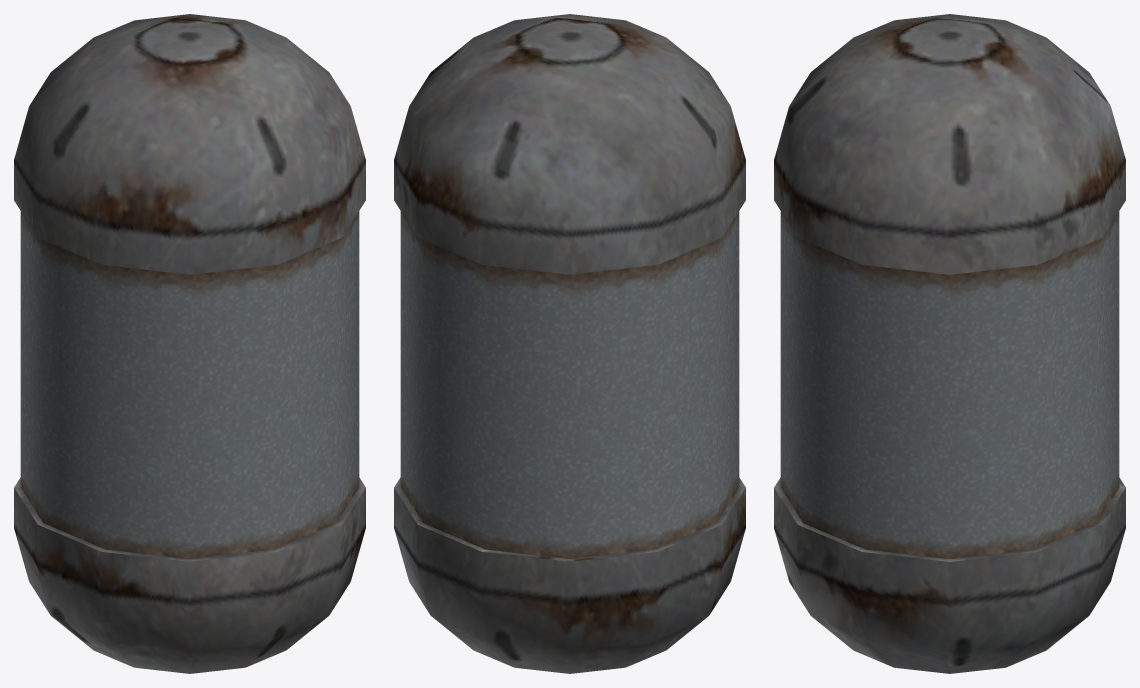
File: power_tube.DAE
3 renders of one model, left to right at view 1: azimuth 30°, elevation 25°; view 2: azimuth 150°, elevation 25°; view 3: azimuth 270°, elevation 25°, orthographic.
Visible parts, largest first — view 1: power_tube, power_tube_glass; view 2: power_tube, power_tube_glass; view 3: power_tube, power_tube_glass.
Part boxes in pixels (x1,y1,x2,y2): power_tube: (14, 14, 365, 673); power_tube_glass: (20, 211, 359, 558); power_tube: (394, 14, 745, 673); power_tube_glass: (400, 211, 739, 558); power_tube: (774, 14, 1125, 673); power_tube_glass: (780, 211, 1119, 558).
Bounding box in the file's own units: 20.34 × 20.34 × 39.41.
